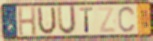C: (117, 5, 137, 34)
H: (17, 6, 37, 37)
T: (79, 7, 95, 34)
U: (56, 5, 77, 37), (37, 6, 58, 37)
Z: (97, 6, 117, 34)
